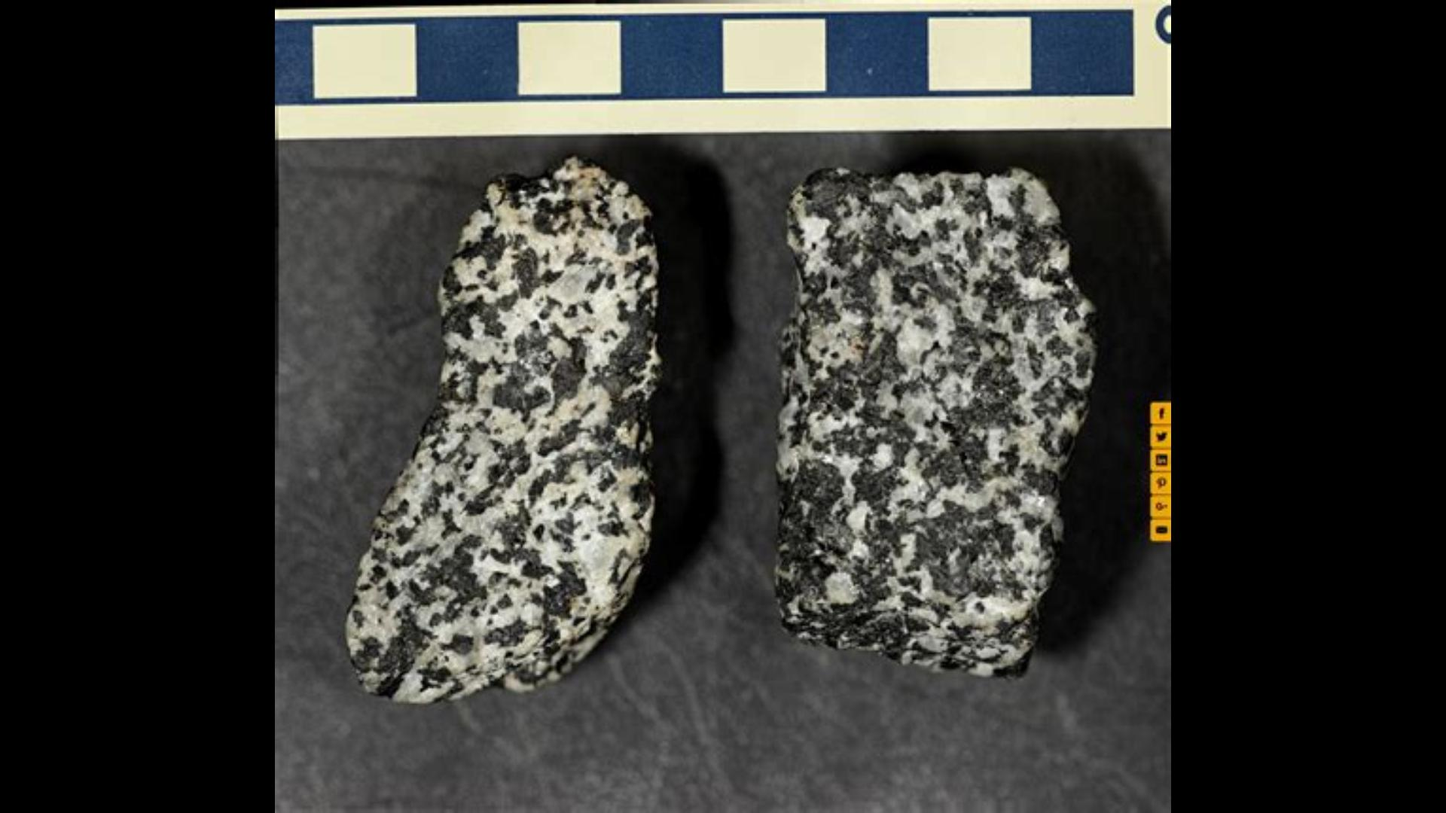rock: (275, 130, 1170, 809), (349, 158, 662, 702), (776, 162, 1089, 676)
